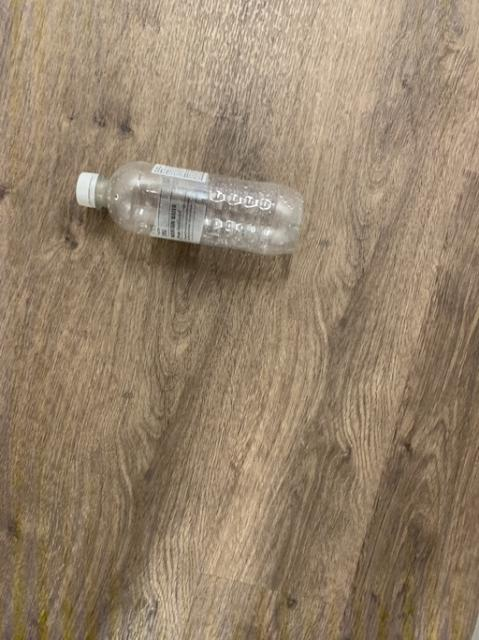plastic: (75, 160, 302, 253)
